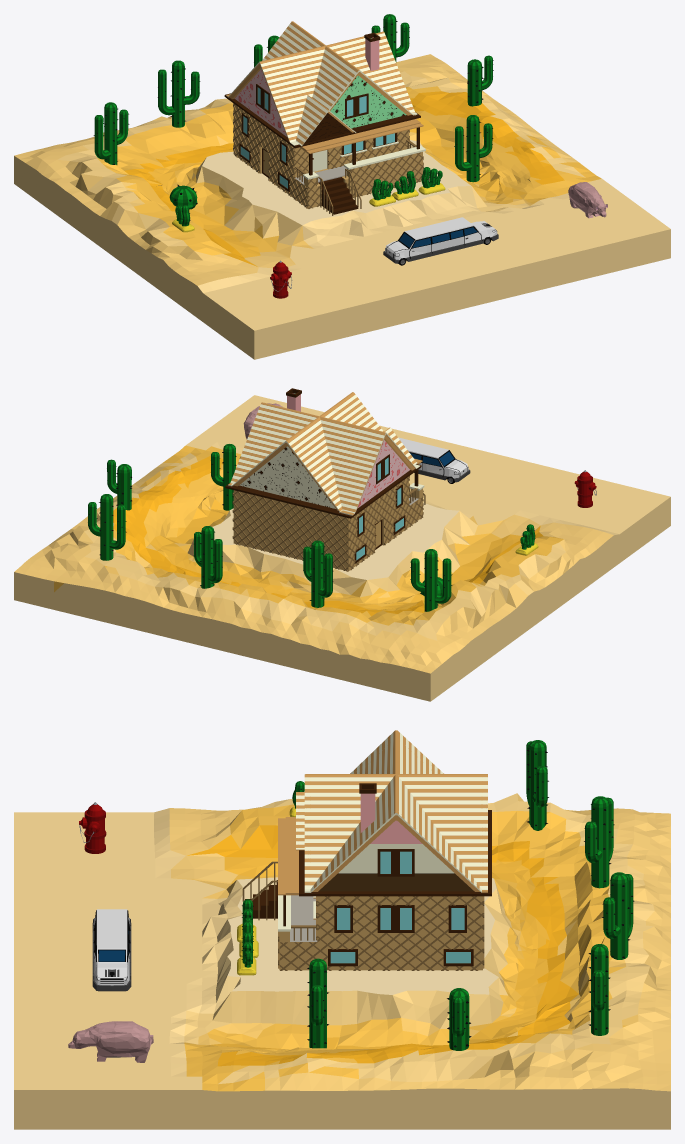
3 renders of one model, top to bottom at view 1: azimuth 30°, elevation 25°; view 2: azimuth 150°, elevation 25°; view 3: azimuth 270°, elevation 25°, orthographic. The views are drawn at different scales.
Visible parts, largest first — view 1: Cube.001, Cube.1102, VEHICLES_LIMOUSINE, Cylinder.037, Cylinder.044, Cylinder.045, Cylinder.038, ANIMAL_HIPOPOTAMO, Cylinder.042, OBJRANDOM_FIRE_HYDRANT, Cylinder.039, Cylinder.041 (+2 smaller); view 2: Cube.001, Cube.1102, VEHICLES_LIMOUSINE, Cylinder.042, Cylinder.045, Cylinder.044, Cylinder.043, Cylinder.037, Cylinder.038, OBJRANDOM_FIRE_HYDRANT; view 3: Cube.001, Cube.1102, VEHICLES_LIMOUSINE, ANIMAL_HIPOPOTAMO, Cylinder.043, Cylinder.044, Cylinder.045, Cylinder.042, Cylinder.037, Cylinder.038, OBJRANDOM_FIRE_HYDRANT, Cylinder.041.
Boxes of the visible parts, x1,y1,x2,y2 form: Cube.001: (14,54,670,359); Cube.1102: (224,21,425,215); VEHICLES_LIMOUSINE: (383,217,498,265); Cylinder.037: (454,115,493,182); Cylinder.044: (157,60,200,127); Cylinder.045: (93,102,129,164); Cylinder.038: (467,55,493,106); ANIMAL_HIPOPOTAMO: (568,182,607,218); Cylinder.042: (371,14,409,62); OBJRANDOM_FIRE_HYDRANT: (270,260,292,298); Cylinder.039: (369,179,395,206); Cylinder.041: (418,167,445,194); Cube.001: (14,395,670,701); Cube.1102: (225,388,425,571); VEHICLES_LIMOUSINE: (398,437,470,483); Cylinder.042: (88,494,126,560); Cylinder.045: (410,549,452,611); Cylinder.044: (303,540,333,607); Cylinder.043: (193,526,222,588); Cylinder.037: (211,444,240,510); Cylinder.038: (107,459,131,510); OBJRANDOM_FIRE_HYDRANT: (574,470,596,507); Cube.001: (14,793,670,1129); Cube.1102: (242,730,491,970); VEHICLES_LIMOUSINE: (92,909,131,991); ANIMAL_HIPOPOTAMO: (68,1021,153,1062); Cylinder.043: (602,872,634,959); Cylinder.044: (584,796,614,888); Cylinder.045: (526,740,548,830); Cylinder.042: (588,944,610,1035); Cylinder.037: (307,958,328,1048); Cylinder.038: (447,988,471,1050); OBJRANDOM_FIRE_HYDRANT: (79,802,106,853); Cylinder.041: (237,932,256,975).
Bounding box in the file's own units: 4002 × 1650 × 4001.
30 materials, 4 textured.
